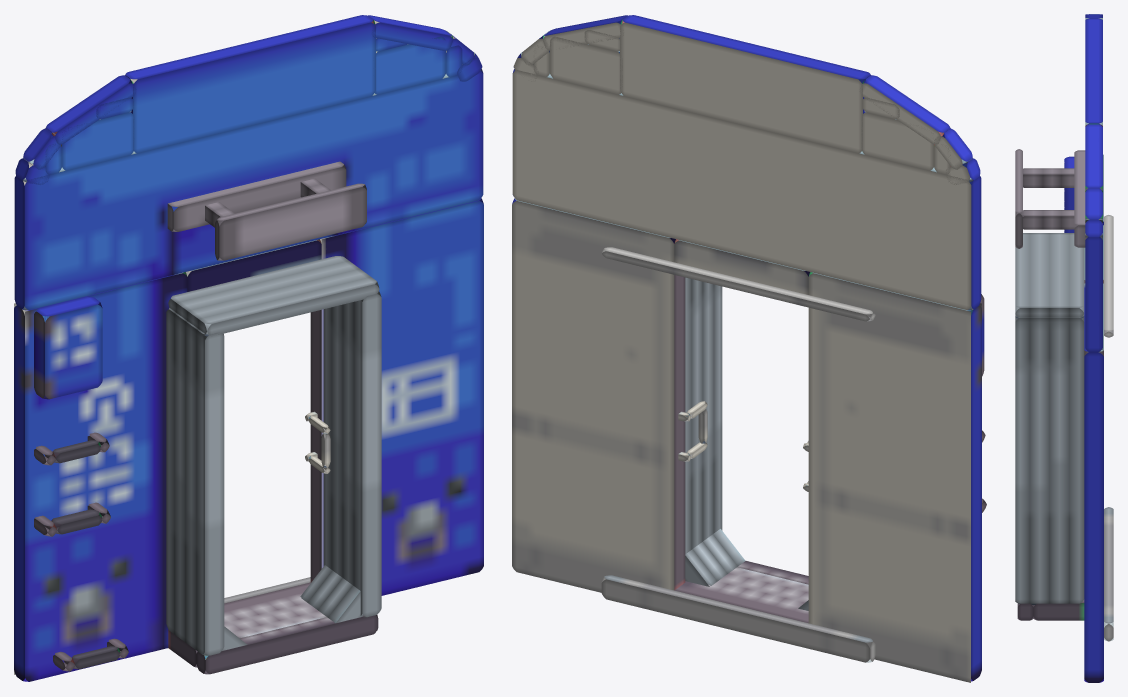
Rendered from end_face_sliding_original_25k_1.obj.
3 views of the same model, side by side, from view 1: azimuth 30°, elevation 25°; view 2: azimuth 150°, elevation 25°; view 3: azimuth 270°, elevation 25° (orthographic). The views are drawn at different scales.
Visible parts, largest first — view 1: cube, cube_selection; view 2: cube, cube_selection; view 3: cube_selection, cube.
Boxes of the visible parts, box(x1,y1,x2,y2) form: cube: box(14, 15, 483, 681); cube_selection: box(166, 161, 381, 655); cube: box(512, 15, 986, 682); cube_selection: box(601, 247, 875, 662); cube_selection: box(1015, 149, 1113, 641); cube: box(1017, 14, 1103, 682).
Bounding box in the file's own units: 3 × 3.58 × 0.625.
